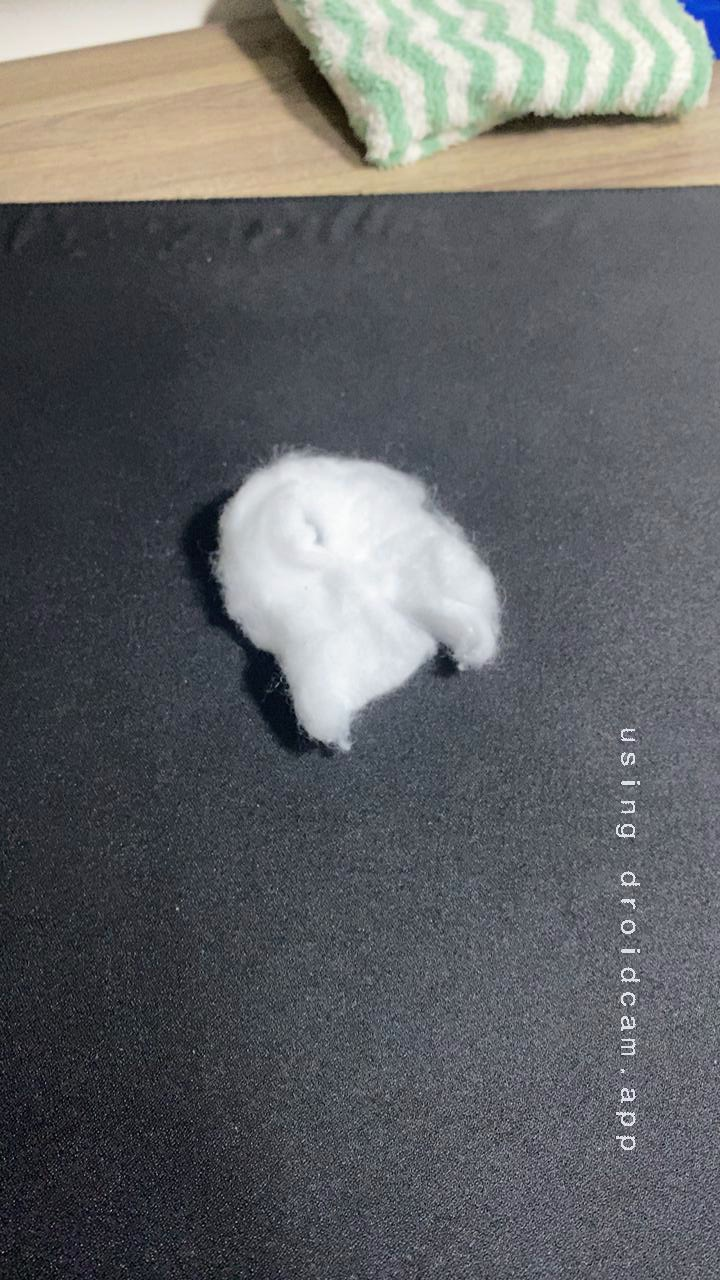cotton: (171, 435, 524, 772)
